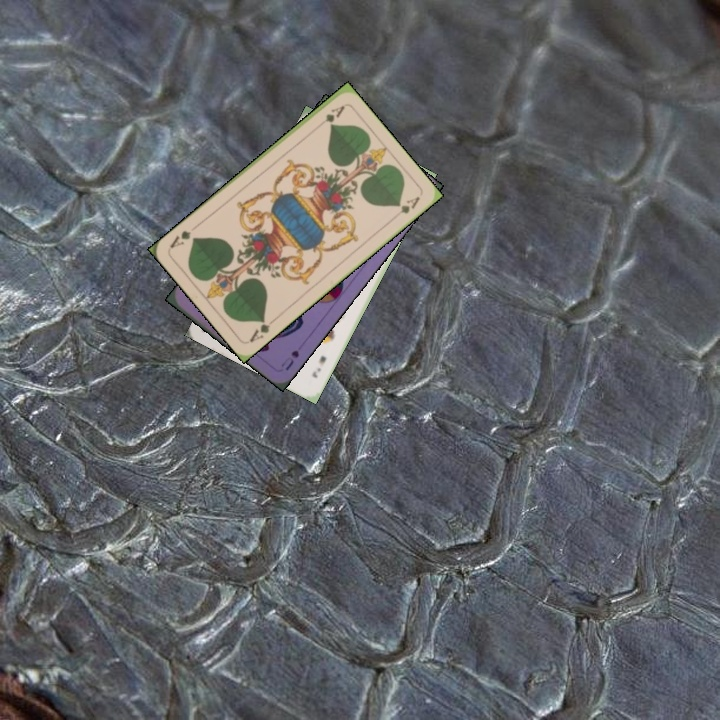E7: (308, 351, 329, 381)
GA: (245, 314, 279, 345), (312, 101, 347, 131)
SU: (277, 346, 302, 373)
